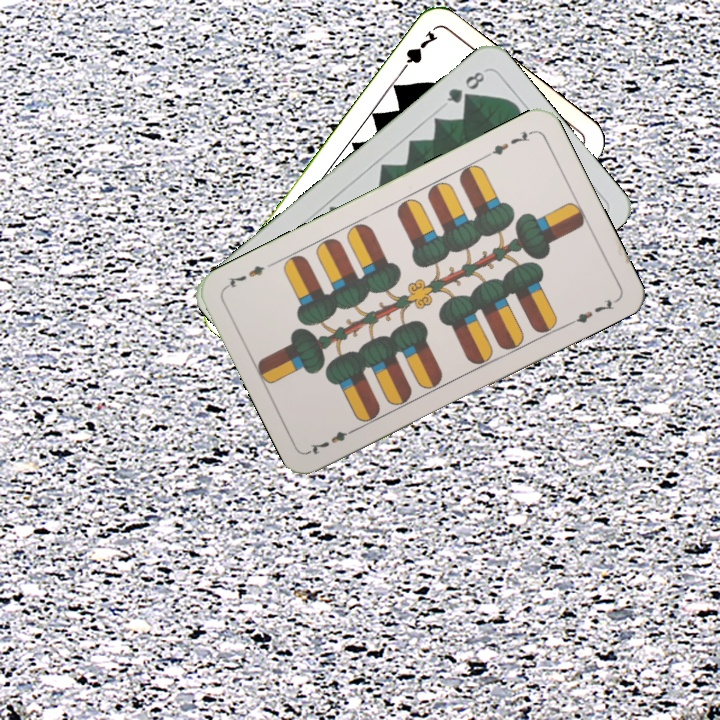E7: (481, 126, 536, 161), (305, 423, 361, 457)
G7: (395, 26, 441, 78)
G8: (442, 67, 487, 106)
